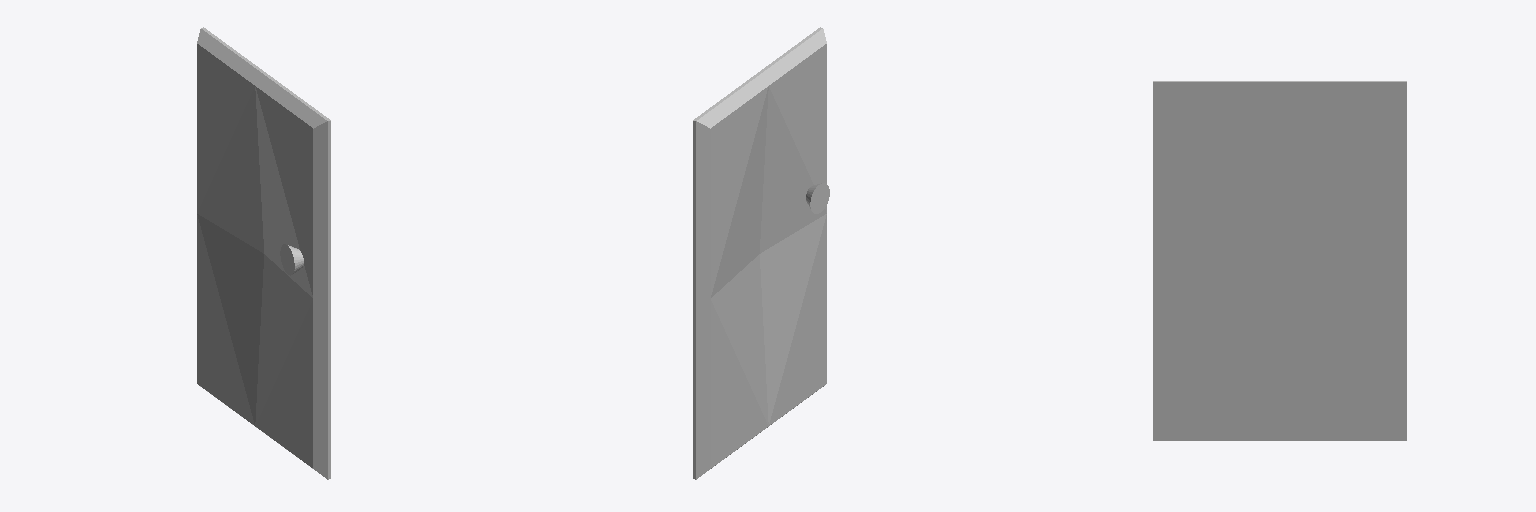
File: mesa_centro_puerta2.obj
3 renders of one model, left to right at view 1: azimuth 30°, elevation 25°; view 2: azimuth 150°, elevation 25°; view 3: azimuth 270°, elevation 25°, orthographic.
Visible parts, largest first — view 1: Cubo.026_Cubo.007; view 2: Cubo.026_Cubo.007; view 3: Cubo.026_Cubo.007.
Part boxes in pixels (bbox=[...]): Cubo.026_Cubo.007: bbox=[197, 27, 330, 479]; Cubo.026_Cubo.007: bbox=[693, 27, 829, 479]; Cubo.026_Cubo.007: bbox=[1153, 81, 1406, 440].
Bounding box in the file's own units: 0.0699 × 1.03 × 0.6624.